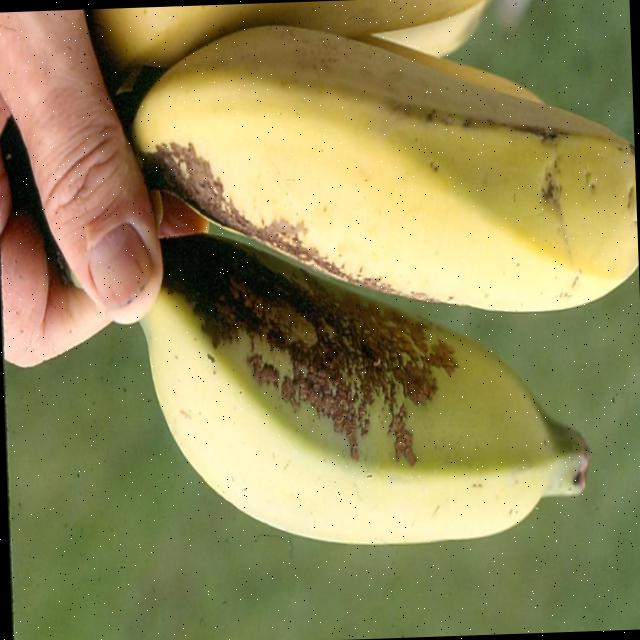banana: (138, 190, 590, 543)
